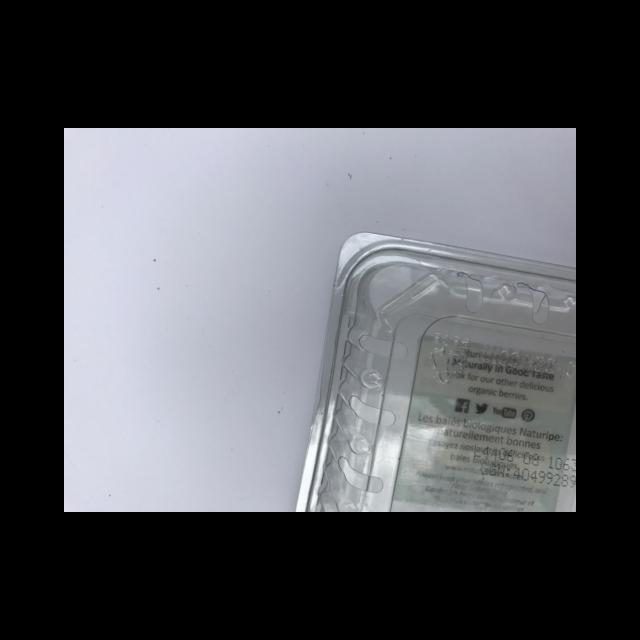plastic: (293, 230, 575, 511)
